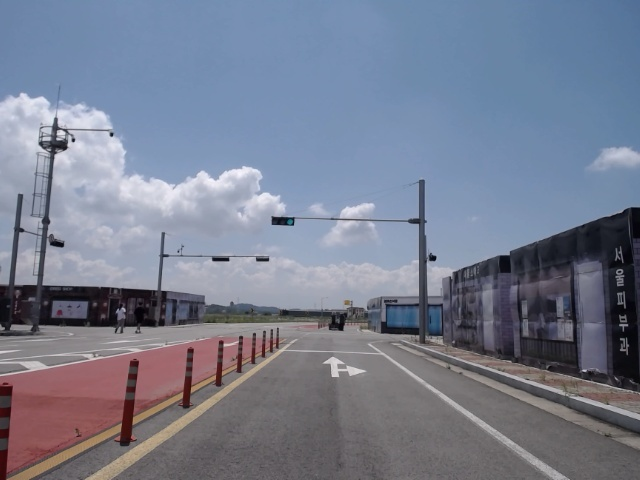green_3: (272, 217, 294, 225)
